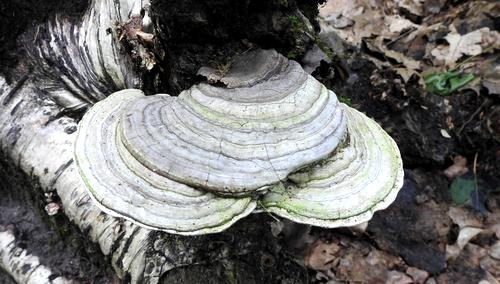Ganoderma - Fruit Body: (71, 48, 406, 238)
